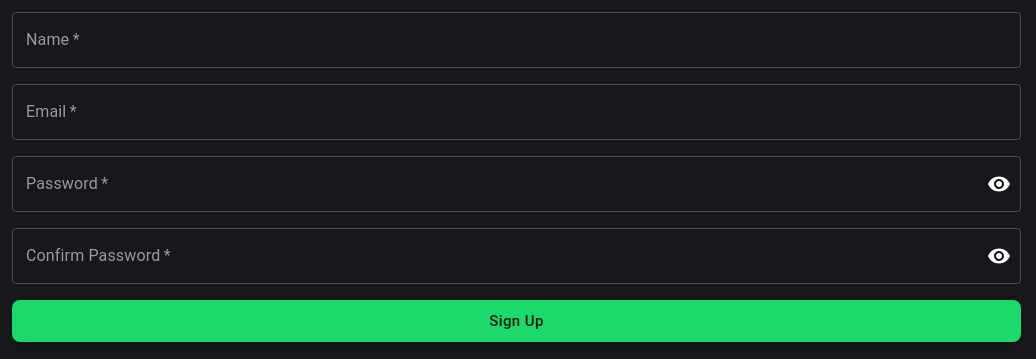
SignUpForm › should show loading state during submission
This screenshot has width=1036, height=359.
In the field labelled "Name *": x=516, y=40 [12,12,1021,68], type "Test User"
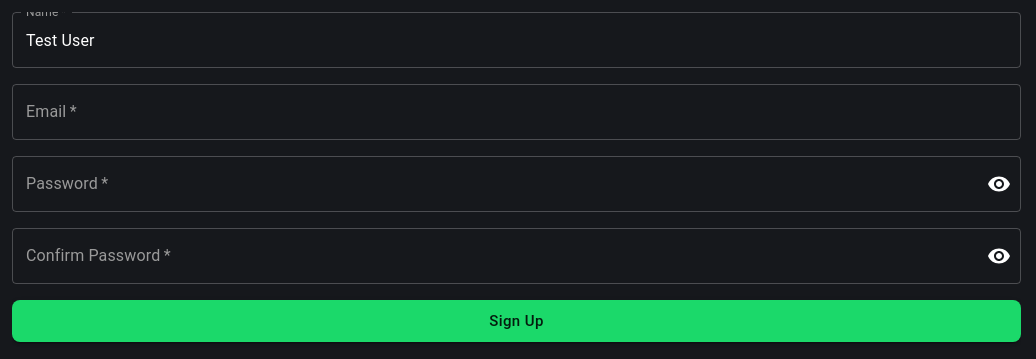
In the field labelled "Email *": x=516, y=112 [12,84,1021,140], type "test@example.com"
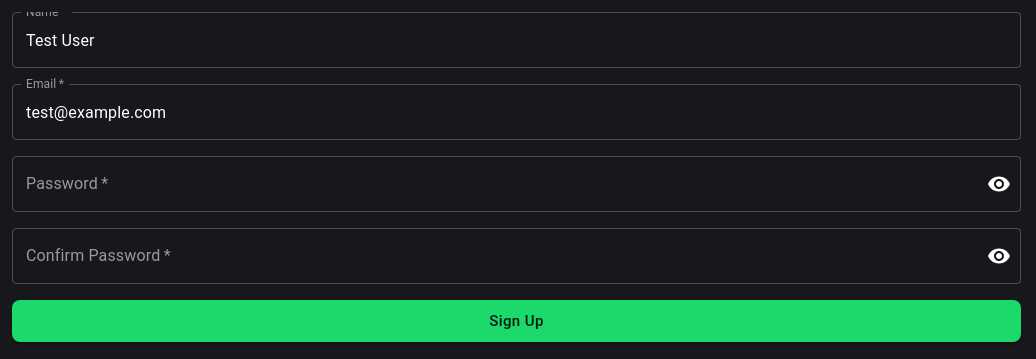
In the password field labelled "Password *": x=492, y=184 [12,156,971,212], type "password123"
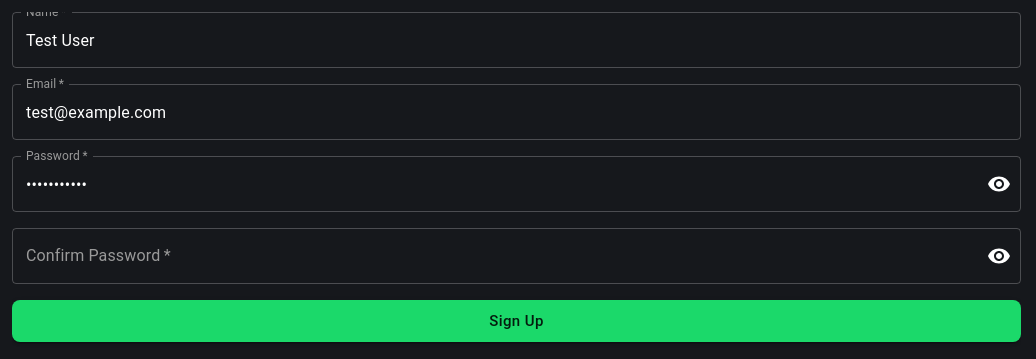
In the password field labelled "Confirm Password *": x=492, y=256 [12,228,971,284], type "password123"
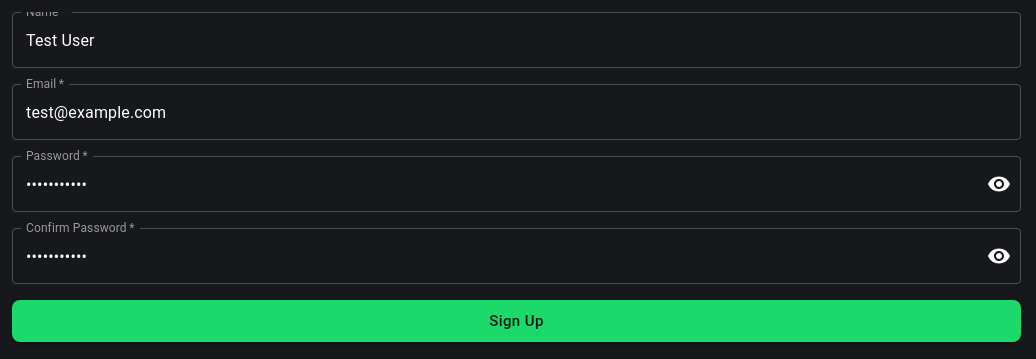
Click the button "Sign Up": x=516, y=321 [12,300,1021,342]
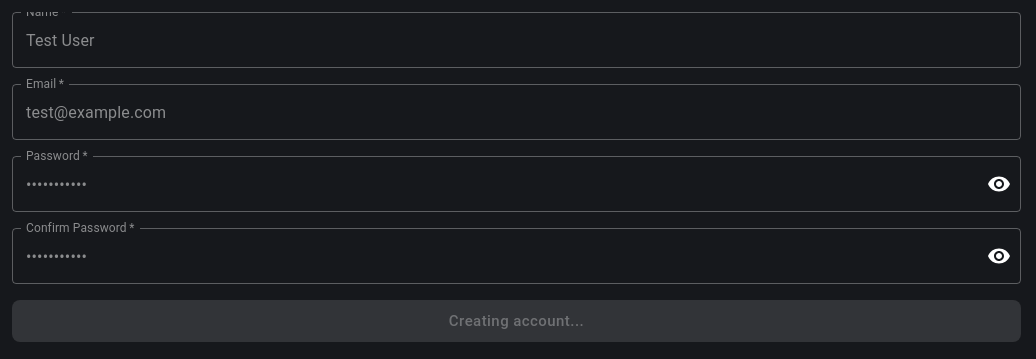
Now the button named "sign up" is disabled, box [12,300,1021,342]
